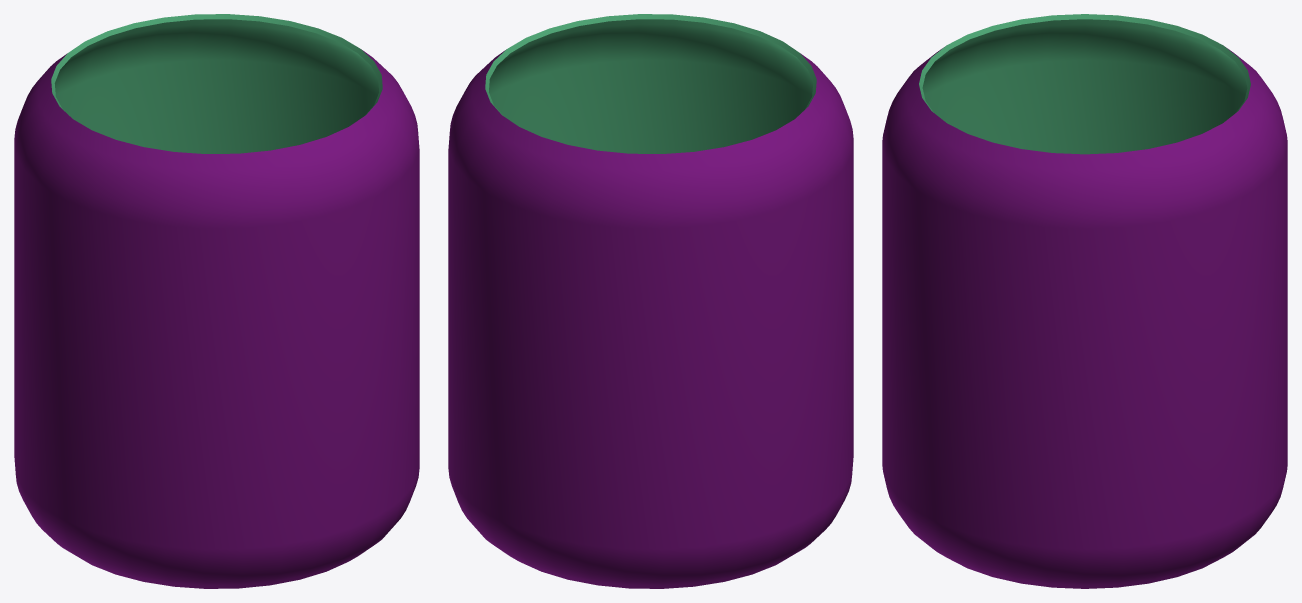
Rendered from Lantern_Glass_Type_LOD_0.fbx.
3 renders of one model, left to right at view 1: azimuth 30°, elevation 25°; view 2: azimuth 150°, elevation 25°; view 3: azimuth 270°, elevation 25°, orthographic.
Visible parts, largest first — view 1: Lantern_Glass_Type_LOD_0.001; view 2: Lantern_Glass_Type_LOD_0.001; view 3: Lantern_Glass_Type_LOD_0.001.
Boxes of the visible parts, left/top/right/bottom form: Lantern_Glass_Type_LOD_0.001: left=14, top=14, right=419, bottom=588; Lantern_Glass_Type_LOD_0.001: left=448, top=14, right=853, bottom=588; Lantern_Glass_Type_LOD_0.001: left=882, top=14, right=1287, bottom=588.
Bounding box in the file's own units: 0.1502 × 0.1776 × 0.1502.
